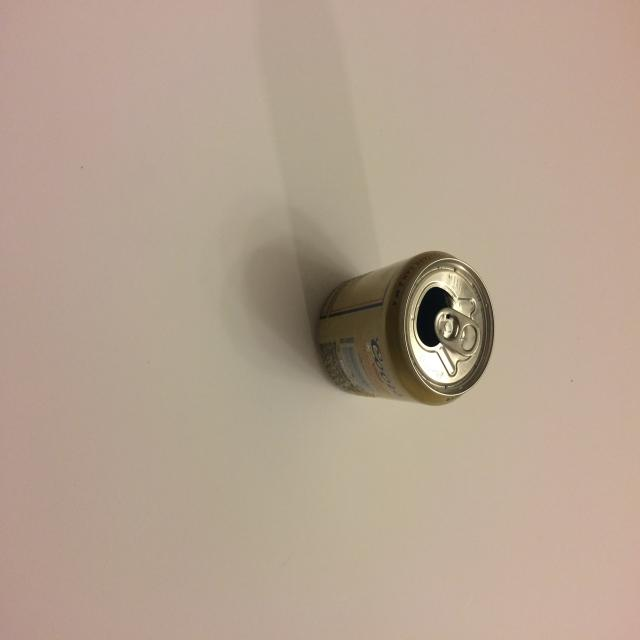metal: (316, 249, 495, 406)
